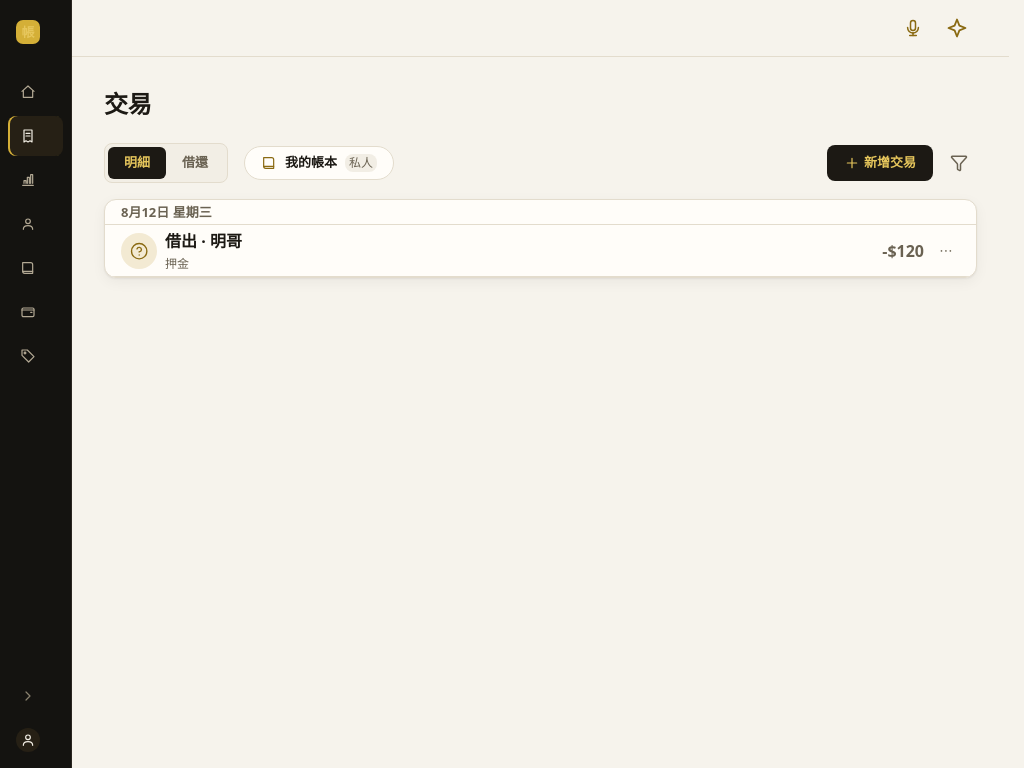
Editing and deleting a transaction › prefills the shared debt edit form from the transaction in the active ledger
Click the button with aria-label "編輯" at (203, 241), box [165,225,804,276]
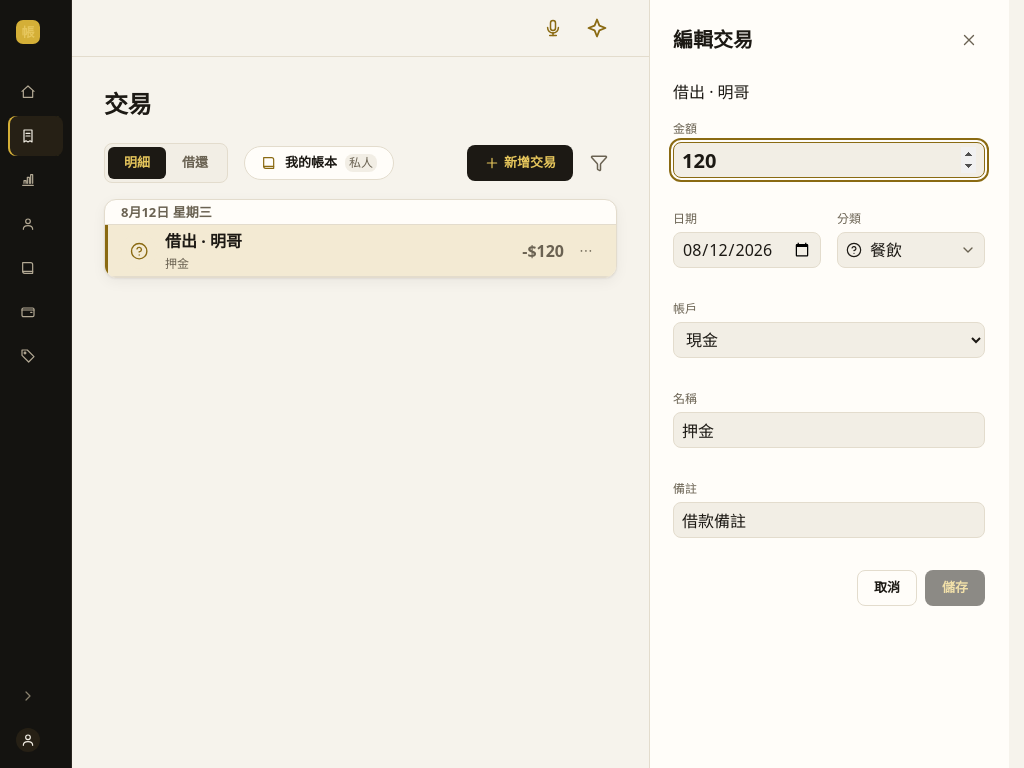
Expected: the number field labelled "金額" holds "120", [673,142,985,178]
Expected: the date field labelled "日期" holds "2026-08-12", [673,232,821,268]
Expected: the dropdown labelled "帳戶" shows "現金", [673,322,985,358]
